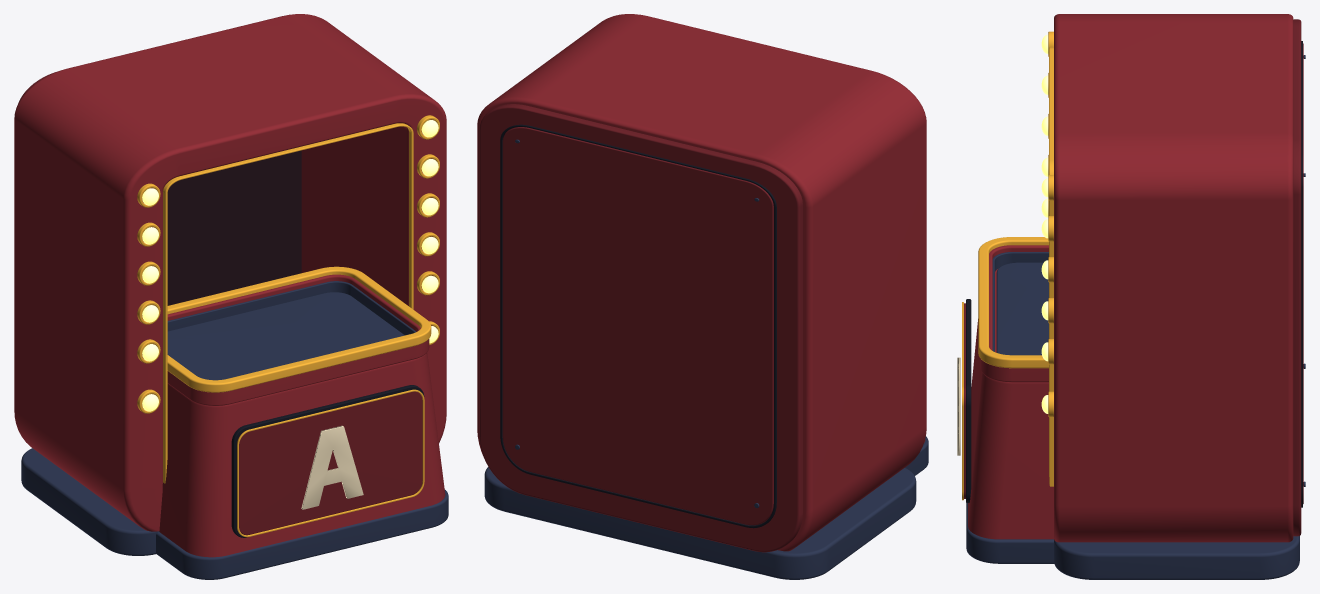
Rendered from BoothCabinet_A.glb.
3 renders of one model, left to right at view 1: azimuth 30°, elevation 25°; view 2: azimuth 150°, elevation 25°; view 3: azimuth 270°, elevation 25°, orthographic. The views are drawn at different scales.
Visible parts, largest first — view 1: RedRoundedCabinetShell, TrayTaperedRedBody, DarkRecessBack, TrayRedAnswerPlaque, TrayDepositFloor, TrayBlueGrayFoot, TrayGoldUpperLip, BlueGrayCabinetPlinth, TrayRaisedRedWall, GoldInnerApertureLining, TrayInnerBlueLiner, UnifiedRaisedAnswerA (+2 smaller); view 2: RedRearServicePanel, RedRoundedCabinetShell, RearOuterCover, BlueGrayCabinetPlinth, RearServicePanelSeam; view 3: RedRoundedCabinetShell, TrayTaperedRedBody, BlueGrayCabinetPlinth, RearOuterCover, TrayDepositFloor, TrayGoldUpperLip, TrayBlueGrayFoot, TrayRaisedRedWall, GoldInnerApertureLining, TrayFrontPlaqueShadow, RearServicePanelSeam, TrayInnerBlueLiner (+1 smaller).
Boxes of the visible parts, left/top/right/bottom form: RedRoundedCabinetShell: left=14, top=14, right=446, bottom=531; TrayTaperedRedBody: left=159, top=352, right=445, bottom=557; DarkRecessBack: left=167, top=150, right=301, bottom=305; TrayRedAnswerPlaque: left=237, top=391, right=422, bottom=535; TrayDepositFloor: left=167, top=292, right=404, bottom=380; TrayBlueGrayFoot: left=156, top=489, right=448, bottom=579; TrayGoldUpperLip: left=167, top=266, right=431, bottom=392; BlueGrayCabinetPlinth: left=21, top=448, right=159, bottom=555; TrayRaisedRedWall: left=167, top=274, right=429, bottom=405; GoldInnerApertureLining: left=163, top=123, right=413, bottom=483; TrayInnerBlueLiner: left=167, top=281, right=415, bottom=335; UnifiedRaisedAnswerA: left=301, top=425, right=363, bottom=509; RedRearServicePanel: left=502, top=127, right=773, bottom=525; RedRoundedCabinetShell: left=477, top=14, right=926, bottom=551; RearOuterCover: left=479, top=104, right=802, bottom=552; BlueGrayCabinetPlinth: left=484, top=467, right=916, bottom=579; RearServicePanelSeam: left=500, top=124, right=776, bottom=528; RedRoundedCabinetShell: left=1054, top=14, right=1293, bottom=542; TrayTaperedRedBody: left=968, top=269, right=1053, bottom=539; BlueGrayCabinetPlinth: left=1054, top=536, right=1299, bottom=579; RearOuterCover: left=1293, top=19, right=1301, bottom=536; TrayDepositFloor: left=996, top=262, right=1048, bottom=355; TrayGoldUpperLip: left=978, top=237, right=1048, bottom=368; TrayBlueGrayFoot: left=966, top=503, right=1054, bottom=563; TrayRaisedRedWall: left=980, top=245, right=1048, bottom=382; GoldInnerApertureLining: left=1049, top=47, right=1053, bottom=486; TrayFrontPlaqueShadow: left=966, top=299, right=971, bottom=502; RearServicePanelSeam: left=1301, top=41, right=1302, bottom=507; TrayInnerBlueLiner: left=992, top=252, right=1048, bottom=351.
Bounding box in the file's own units: 1.82 × 2.15 × 1.6.
Materials: 8 (8 with a texture image).
